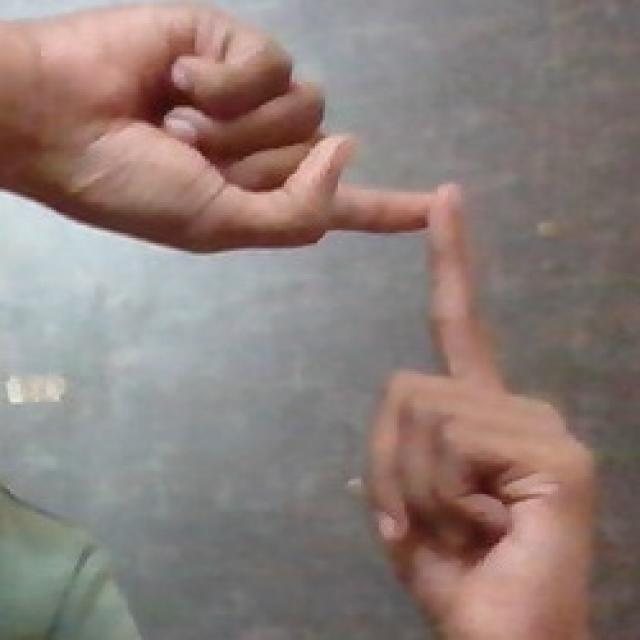Alphabet-E: (1, 8, 594, 640), (1, 8, 431, 253), (369, 184, 596, 640)
